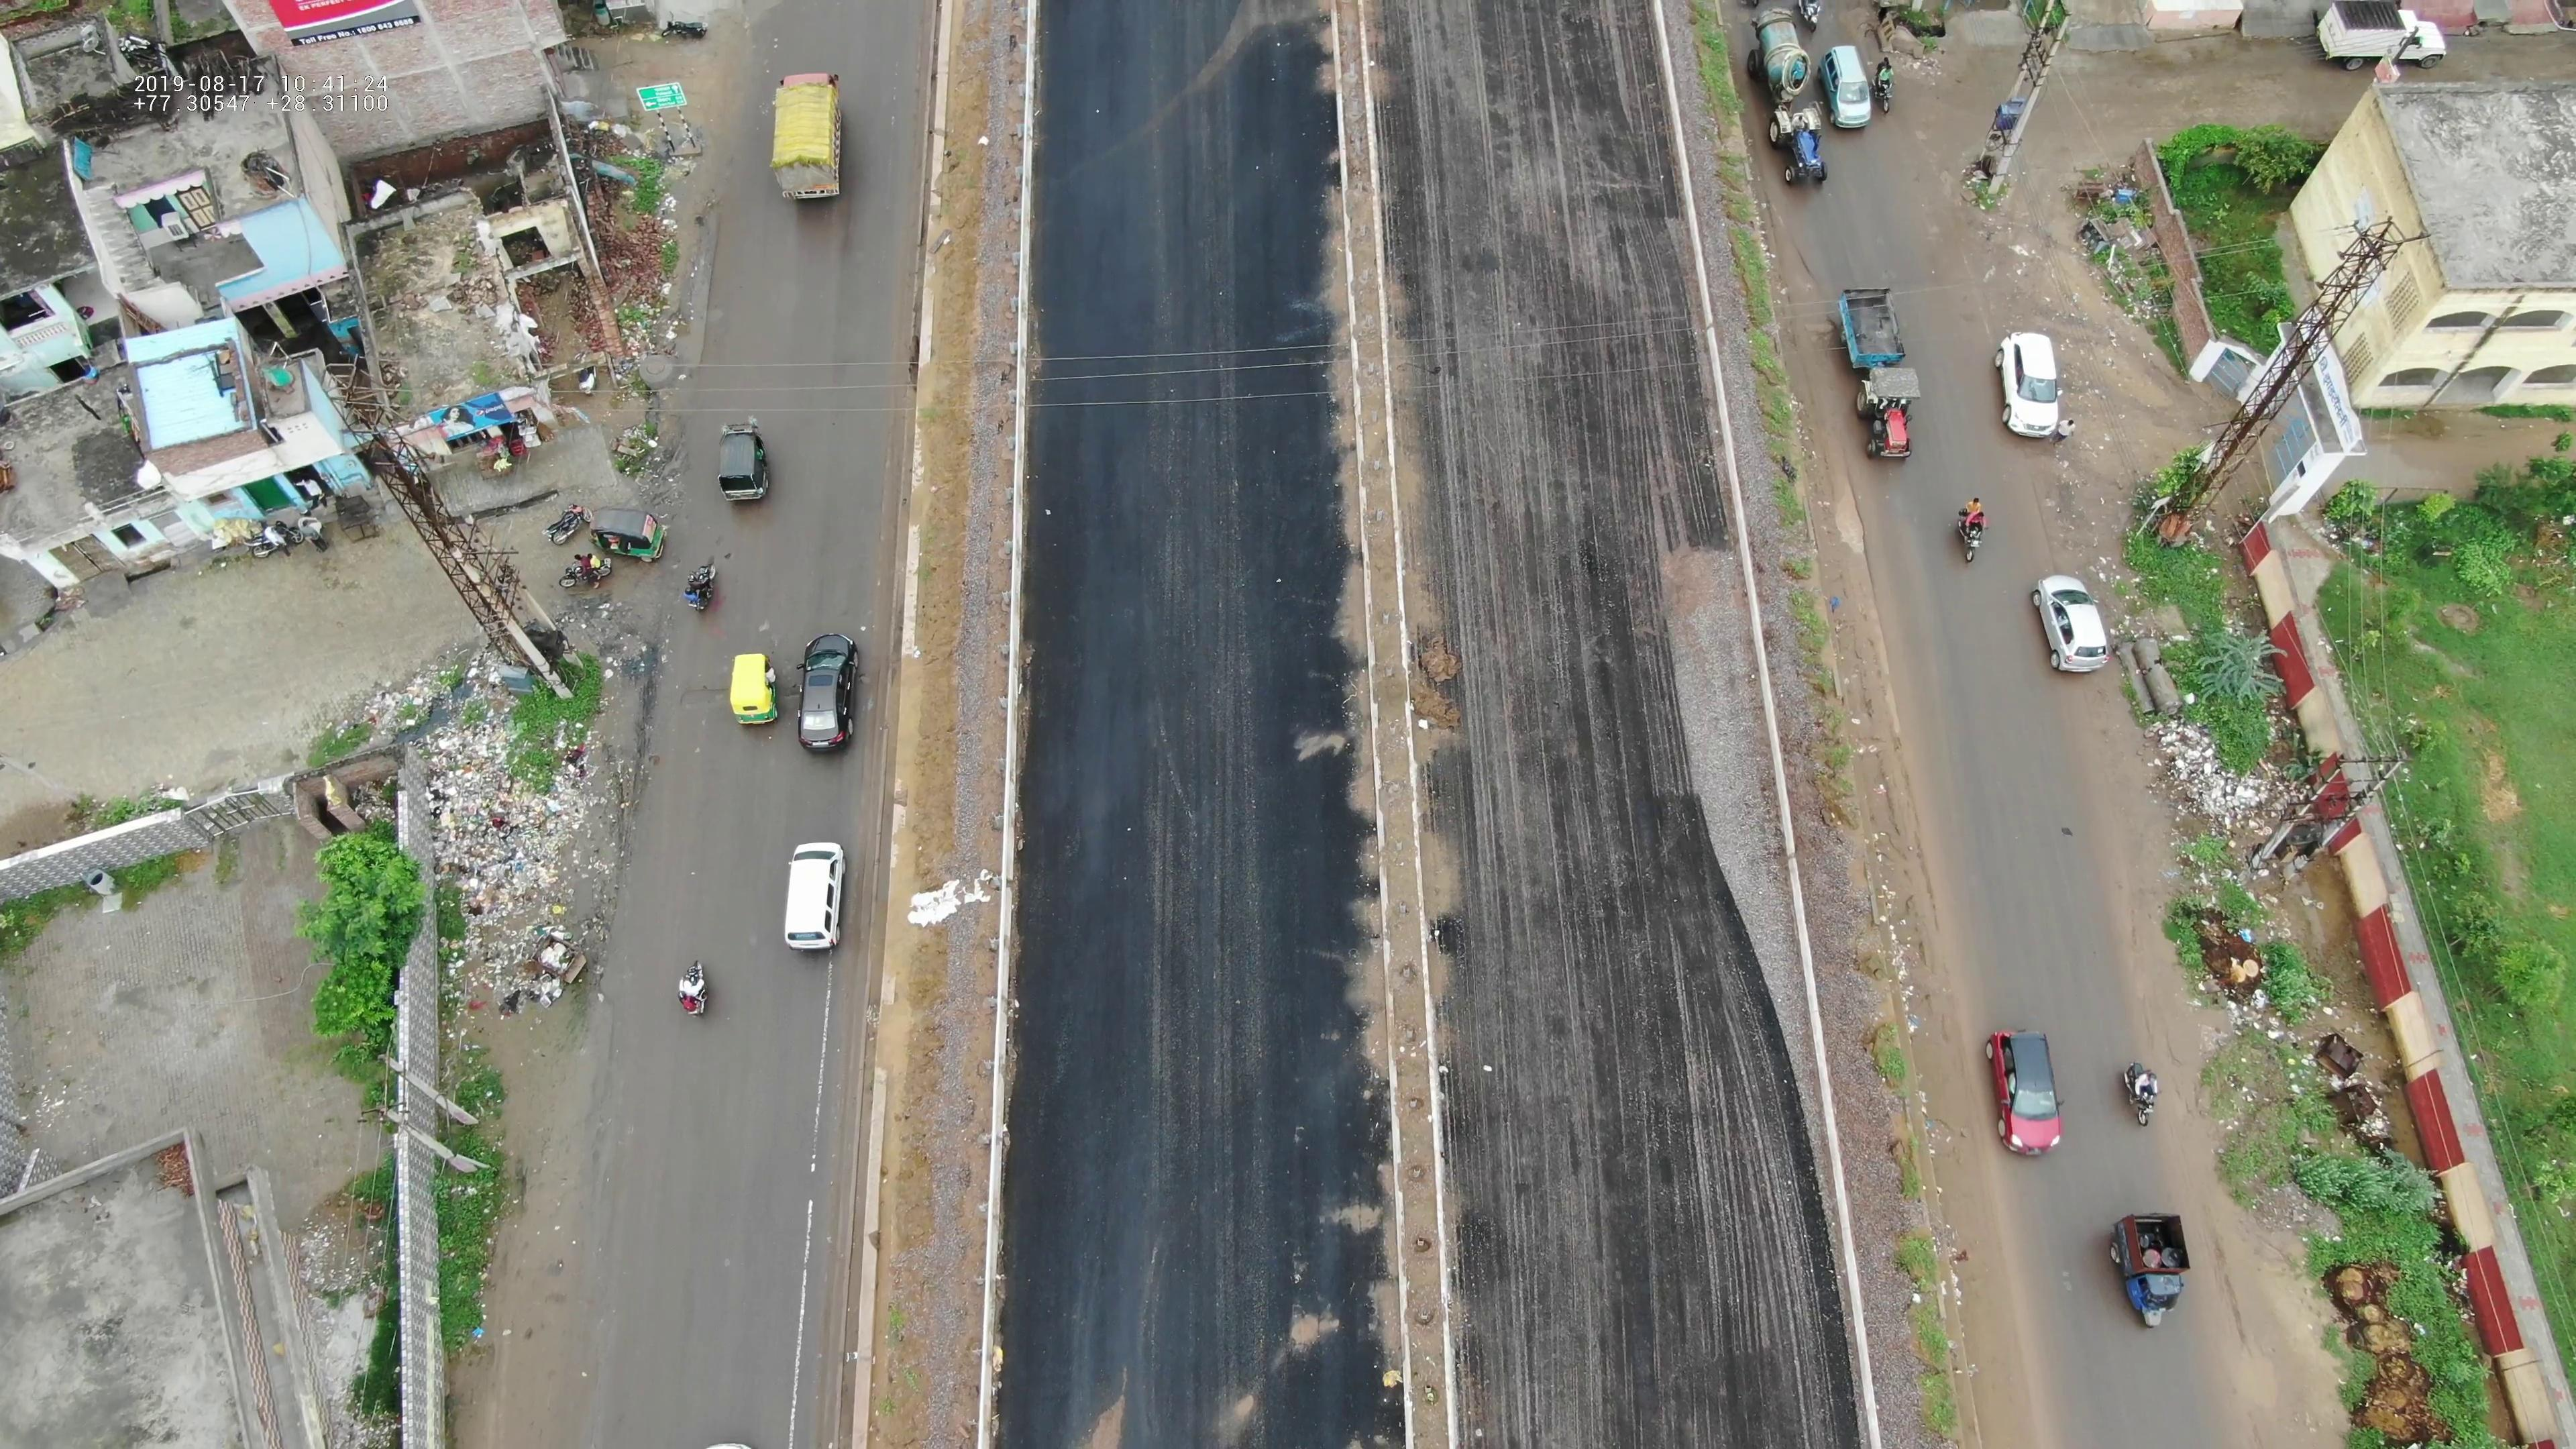Road_side_garbage: (430, 685, 596, 924)
